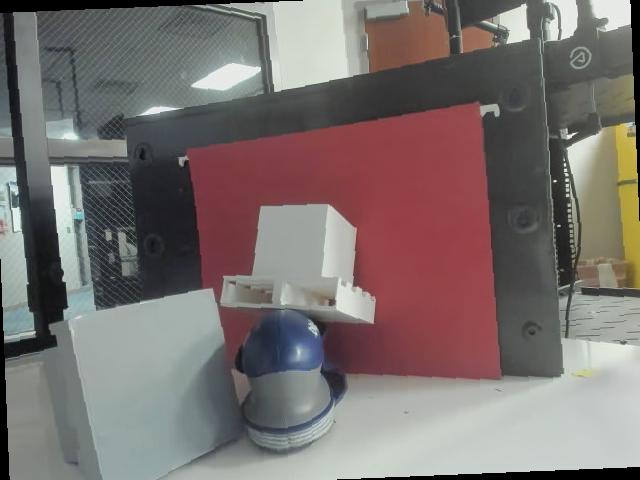grey pallet: (21, 281, 268, 480)
white pallet: (217, 183, 389, 335)
